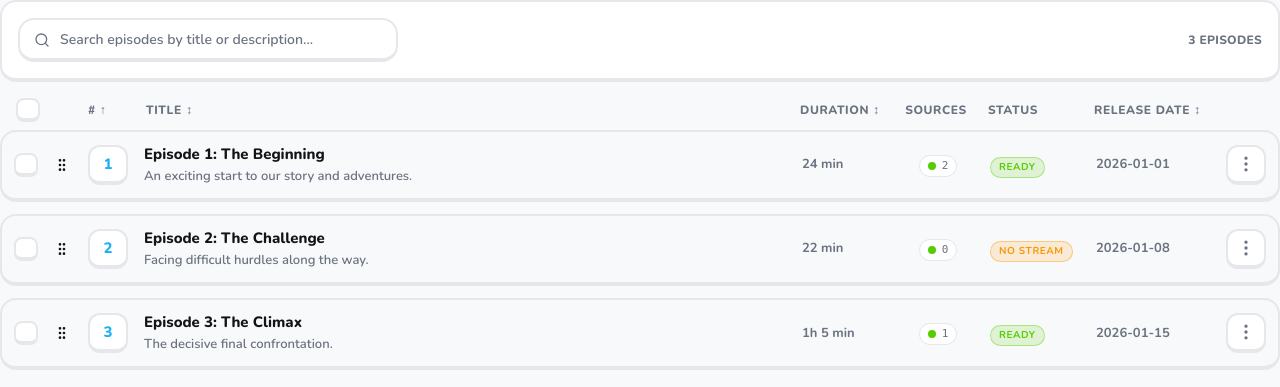
it: EpisodeTable Component › filters episodes in real-time by title and description
The image size is (1280, 387).
Note: Filter by title
Type "Beginning" into the field labelled "Search episodes by title or description...". click: (208, 40)
box: [18,18,398,62]
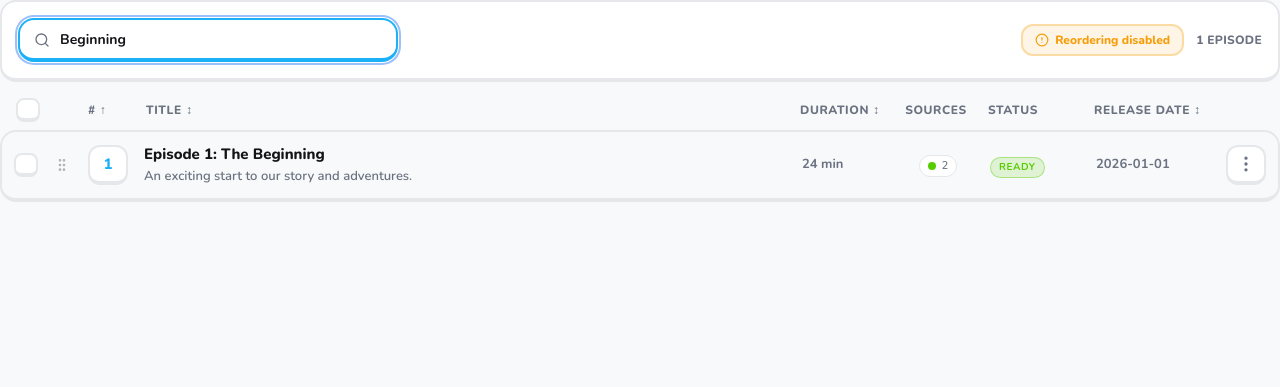
Expected: the text "Episode 1: The Beginning" is shown, [144,144,325,164]
Now the text "Episode 2: The Challenge" is gone
Now the text "Episode 3: The Climax" is gone
Note: Filter by description
Replace the text in the field named "Search episodes" with "hurdles". click: (208, 40)
box: [18,18,398,62]
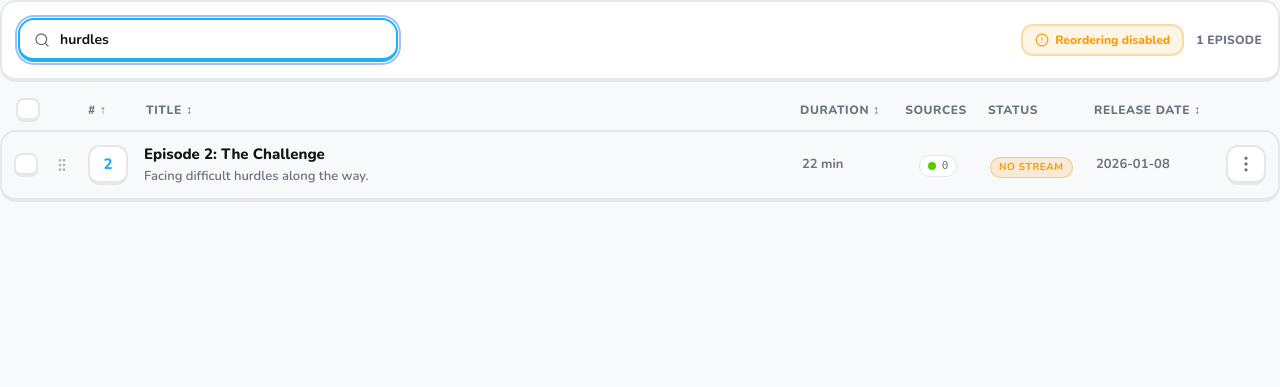
Expected: the text "Episode 3: The Climax" is not shown
Now the text "Episode 2: The Challenge" is shown, box [144,144,325,164]
Now the text "Episode 1: The Beginning" is gone
Note: No match
Replace the text in the field named "Search episodes" with "nonexistent-query". click: (208, 40)
box: [18,18,398,62]
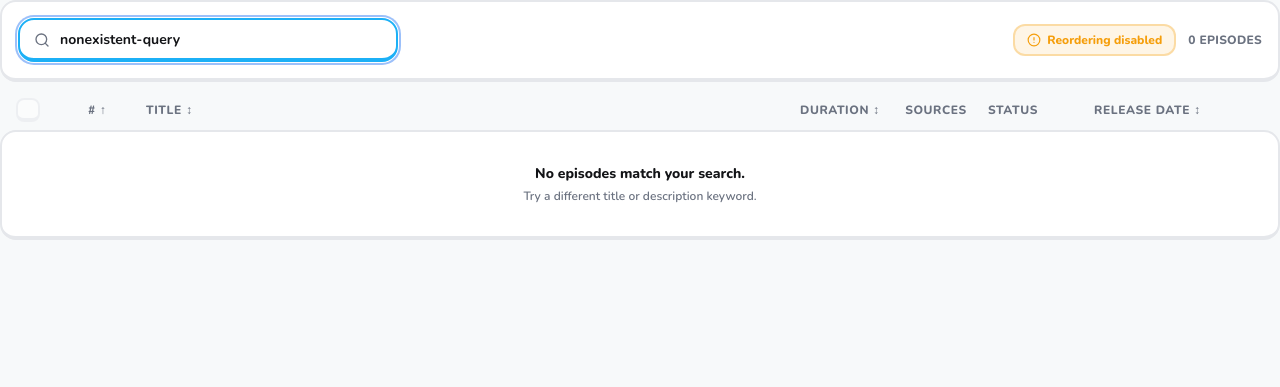
Now the text "No episodes match your search." is shown, box [535,164,745,183]
